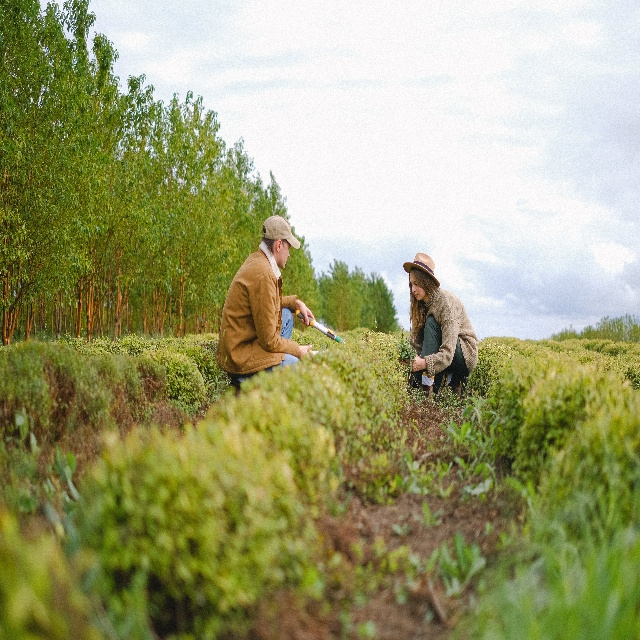Sin_guantes: (296, 298, 315, 330), (401, 353, 421, 372), (298, 342, 313, 361)
